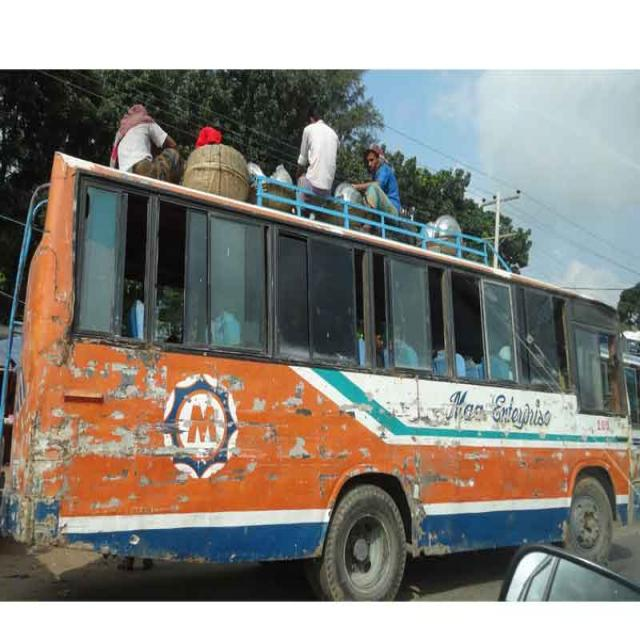bus: (0, 151, 633, 602)
